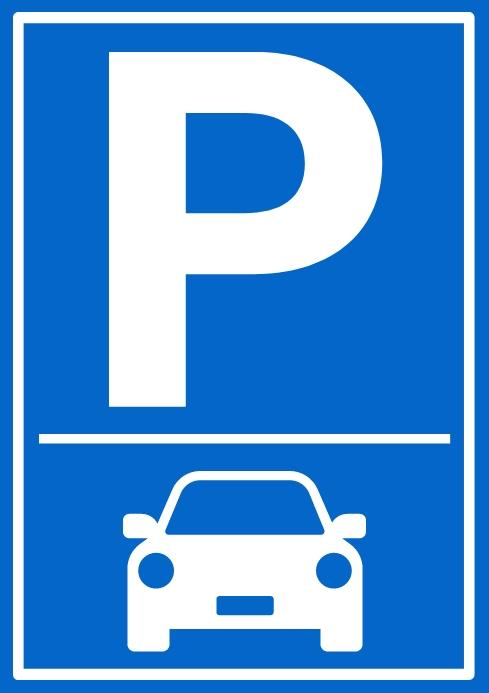parking: (14, 4, 479, 440)
